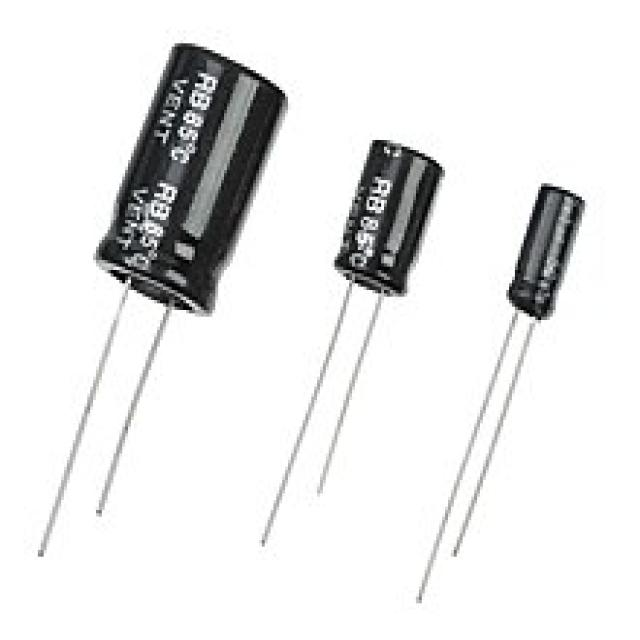Resistor: (96, 43, 288, 317), (335, 140, 445, 297), (509, 183, 588, 323)
